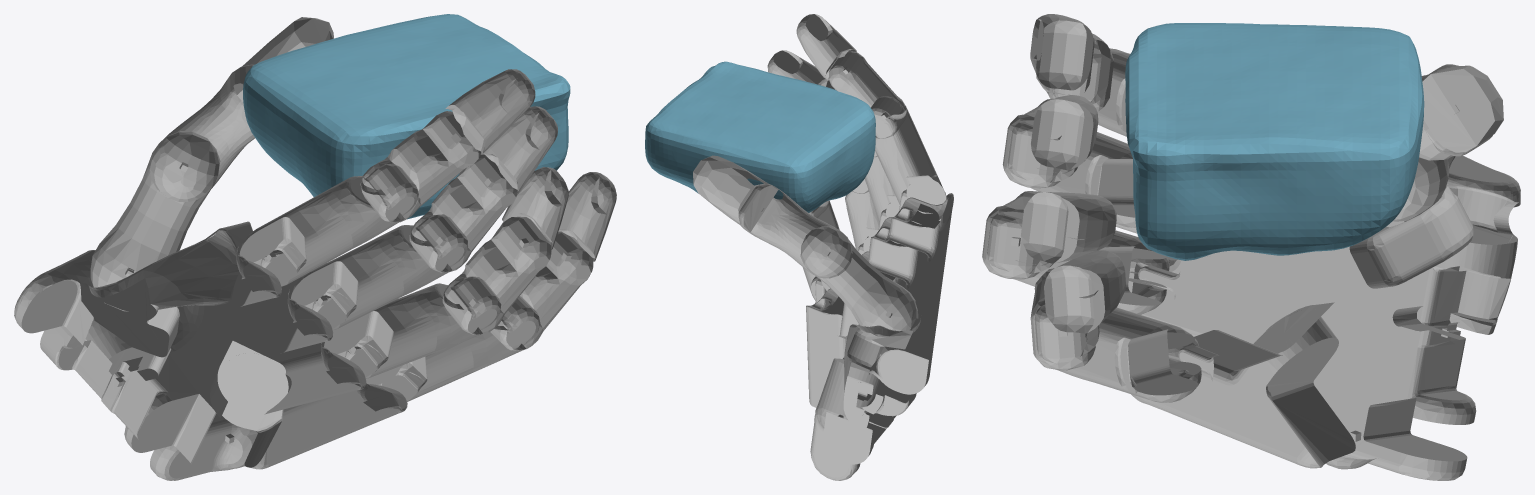
File: ugg_5.glb
The picture shows the model from 3 angles, left to right: view 1: azimuth 30°, elevation 25°; view 2: azimuth 150°, elevation 25°; view 3: azimuth 270°, elevation 25°; orthographic projection. The views are drawn at different scales.
Parts seen in each view (by area): view 1: world; view 2: world; view 3: world.
Boxes of the visible parts, <box> form: world: <box>14,14,616,480</box>; world: <box>645,14,953,480</box>; world: <box>982,14,1520,480</box>.
Bounding box in the file's own units: 1.06 × 1.08 × 0.9038.
